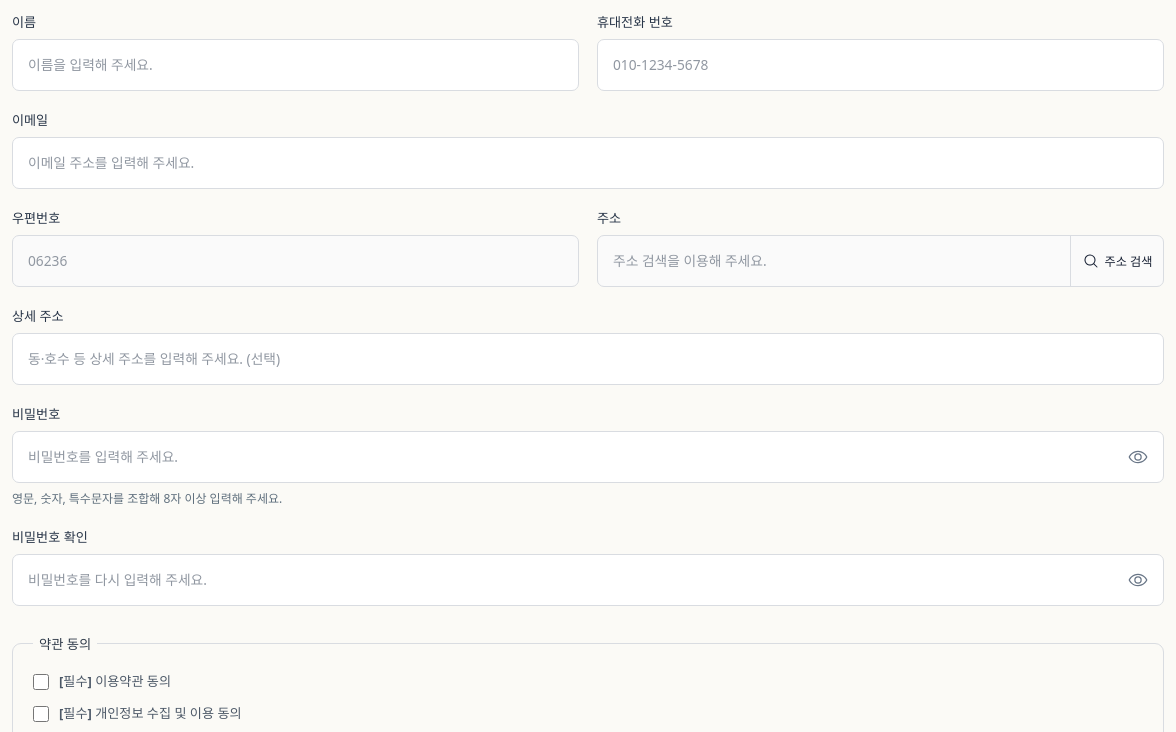
Scenario: ConsumerSignupForm › can reveal and hide the password without changing its value
Type "Saeroi!123" into the password field labelled "비밀번호" at (588, 457), box [12,431,1164,483]
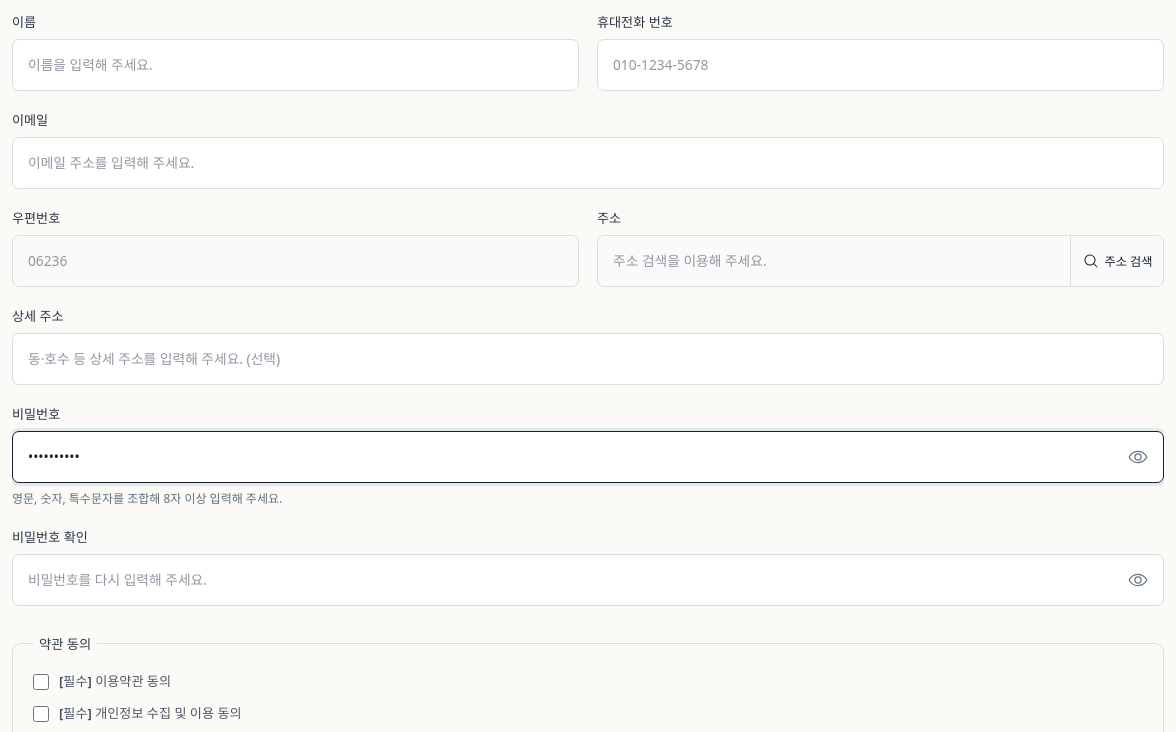
Click the button named "비밀번호 보기" at (1138, 457), box [1119,438,1157,476]
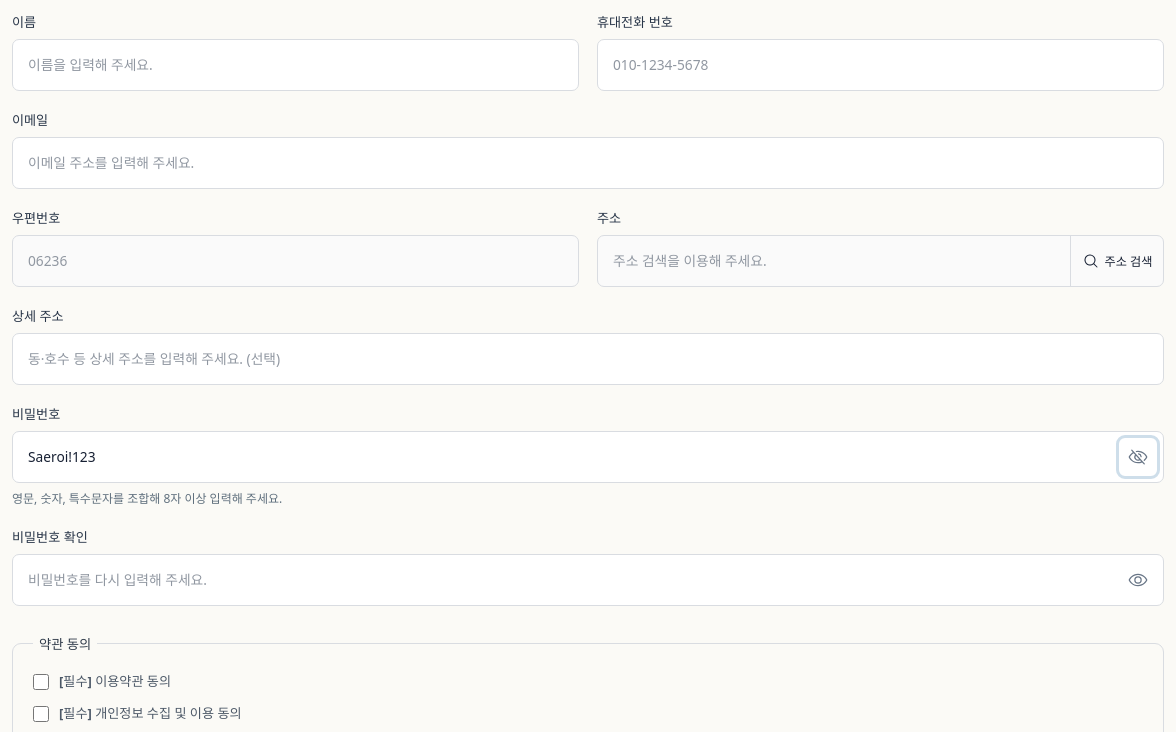
Expected: the field labelled "비밀번호" shows its text, [12,431,1164,483]
Click the button named "비밀번호 숨기기" at (1138, 457), box [1119,438,1157,476]
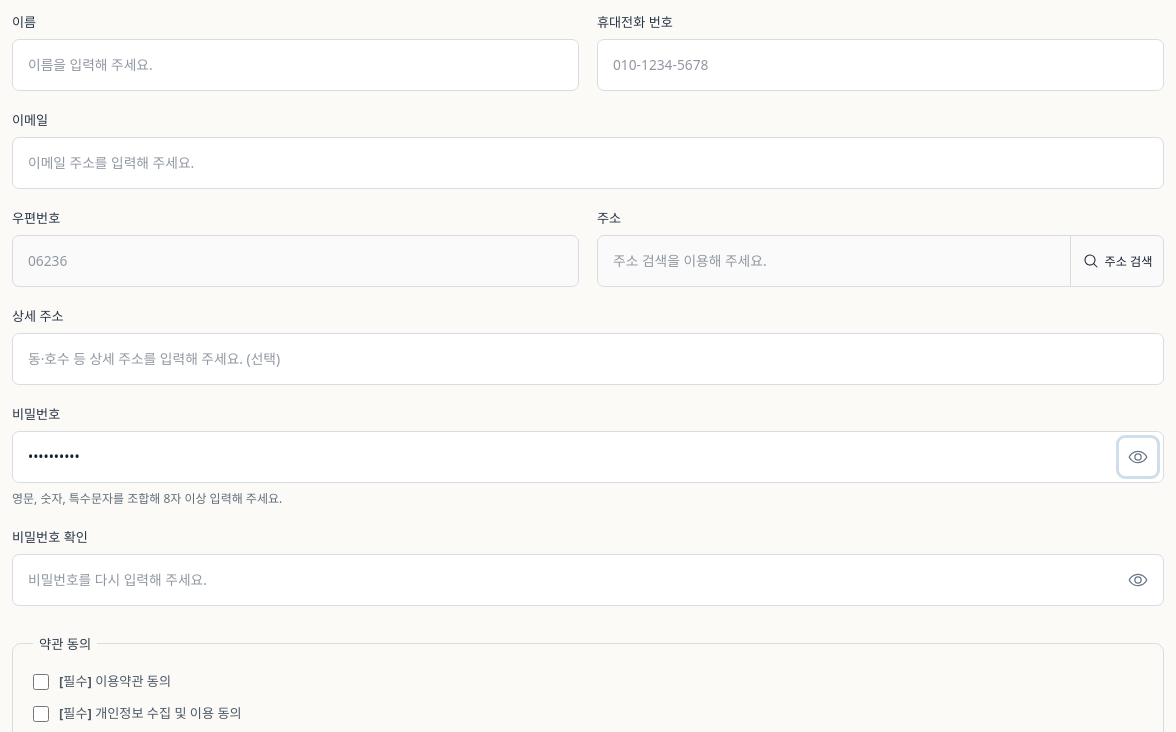
Expected: the password field labelled "비밀번호" hides its text, [12,431,1164,483]
